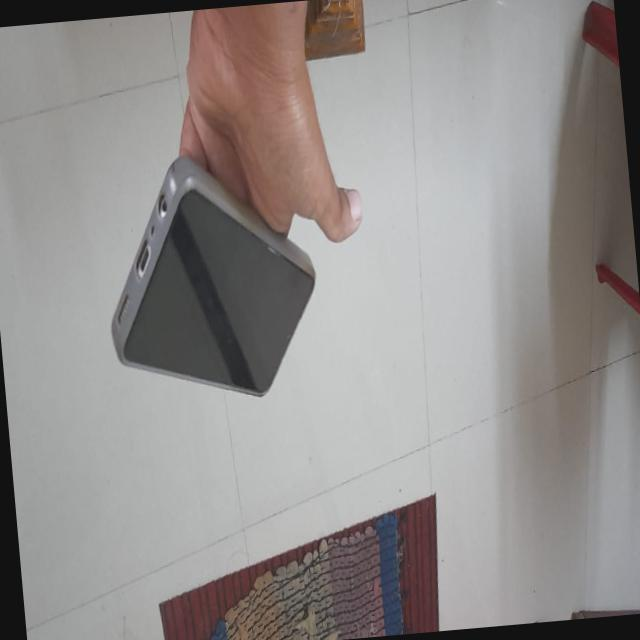Mobile - Recyclable: (90, 119, 334, 421)
